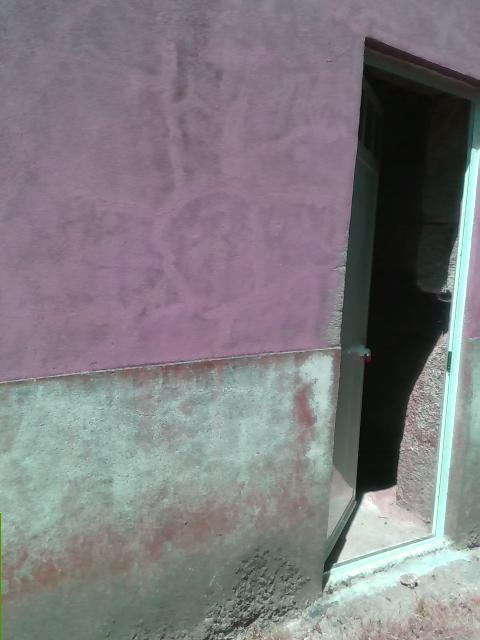semi_door: (320, 36, 479, 577)
